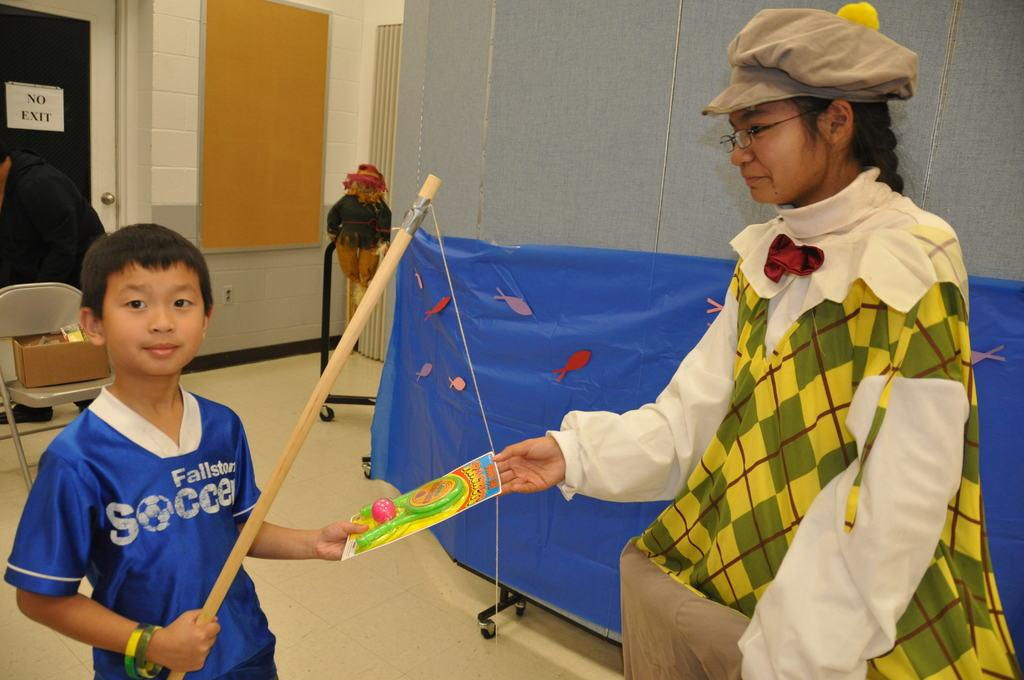Hat: (700, 6, 914, 119), (340, 162, 386, 190)
